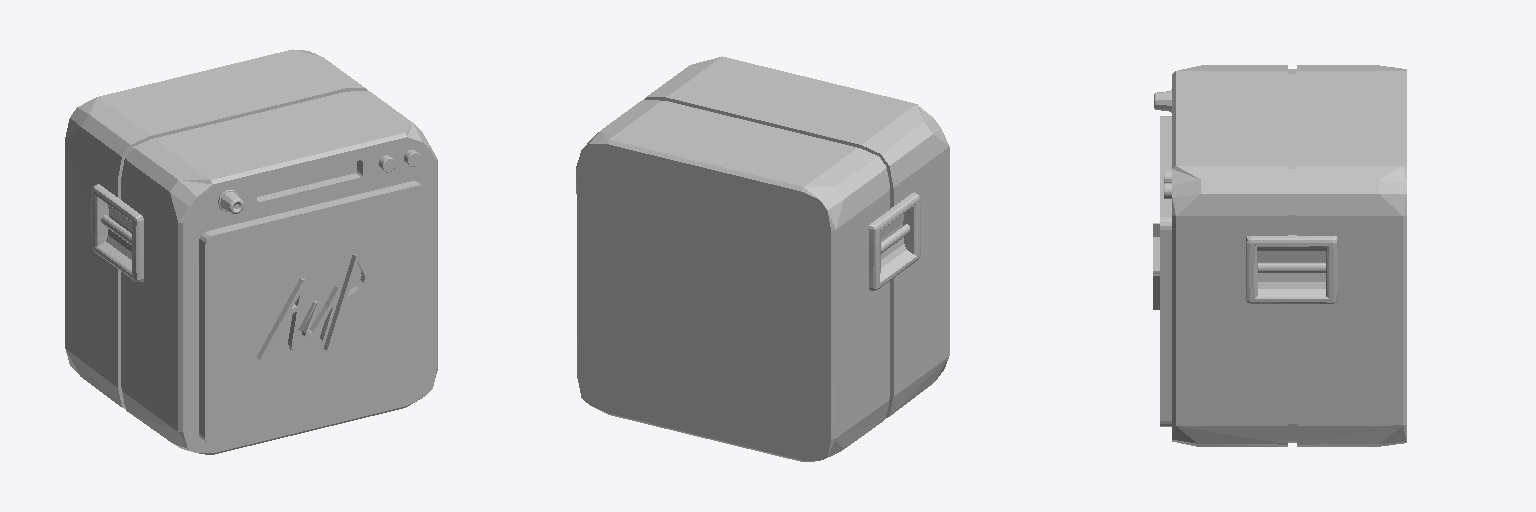
File: Radio.obj
3 views of the same model, side by side, from view 1: azimuth 30°, elevation 25°; view 2: azimuth 150°, elevation 25°; view 3: azimuth 270°, elevation 25° (orthographic).
Visible parts, largest first — view 1: Radio.001_Mesh.030; view 2: Radio.001_Mesh.030; view 3: Radio.001_Mesh.030.
Boxes of the visible parts, x1,y1,x2,y2 form: Radio.001_Mesh.030: [65, 49, 437, 454]; Radio.001_Mesh.030: [576, 56, 949, 461]; Radio.001_Mesh.030: [1153, 65, 1406, 446].
Bounding box in the file's own units: 20.9 × 20.08 × 16.75.